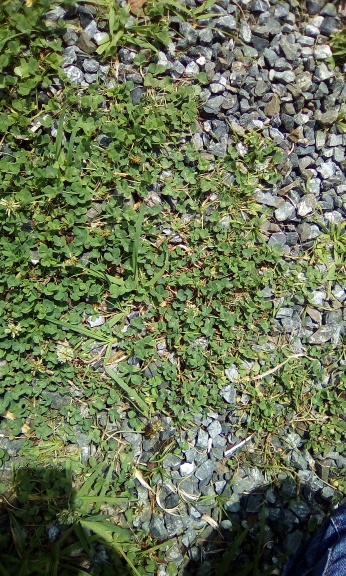4leaf: (150, 284, 170, 303)
